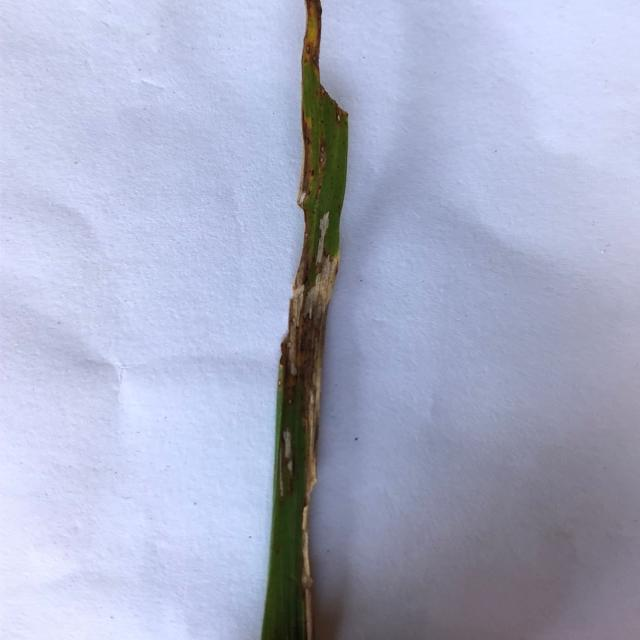Leaf Blight: (281, 115, 334, 499), (303, 544, 312, 640), (282, 427, 292, 495), (303, 493, 310, 559)
